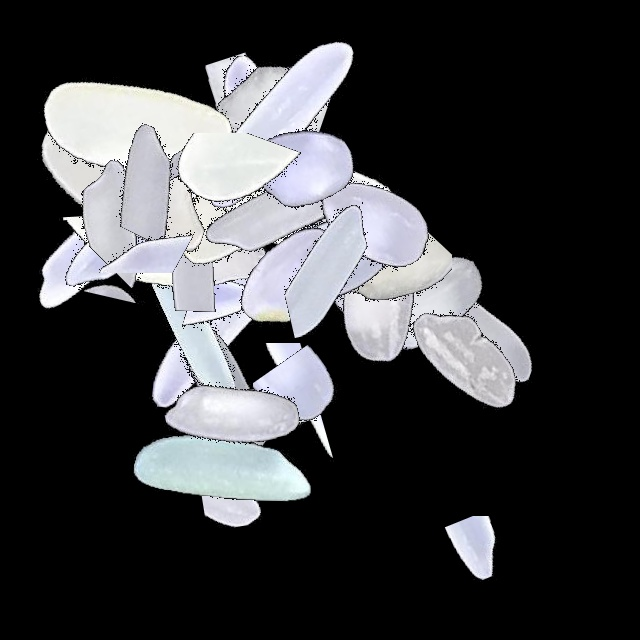Broken: (168, 321, 418, 494), (287, 165, 452, 415), (280, 139, 444, 389), (112, 104, 275, 354), (121, 11, 371, 173), (0, 200, 250, 361), (83, 33, 242, 283), (70, 70, 226, 320), (171, 6, 322, 256), (157, 21, 302, 271), (138, 402, 388, 533), (253, 290, 381, 540), (129, 343, 379, 463), (2, 213, 252, 331), (111, 133, 361, 244), (181, 209, 281, 459), (19, 178, 269, 273), (59, 186, 309, 277), (181, 406, 431, 495), (67, 128, 152, 378), (353, 516, 603, 600), (216, 451, 466, 529), (175, 415, 425, 492), (121, 16, 198, 266)
Full: (261, 153, 511, 403), (344, 203, 594, 453), (98, 199, 348, 449), (102, 261, 352, 511), (0, 81, 250, 331), (64, 192, 314, 442), (196, 102, 446, 352), (82, 115, 332, 365), (289, 181, 539, 431), (33, 26, 283, 276), (129, 76, 379, 326), (178, 78, 428, 328), (19, 83, 269, 333), (155, 0, 405, 250), (0, 52, 250, 302), (255, 171, 505, 421), (194, 135, 444, 385), (12, 0, 262, 250), (151, 82, 401, 332), (207, 139, 457, 389), (169, 154, 419, 404), (342, 232, 592, 482), (252, 96, 502, 346), (175, 43, 425, 293), (98, 341, 348, 591), (107, 289, 357, 539)
